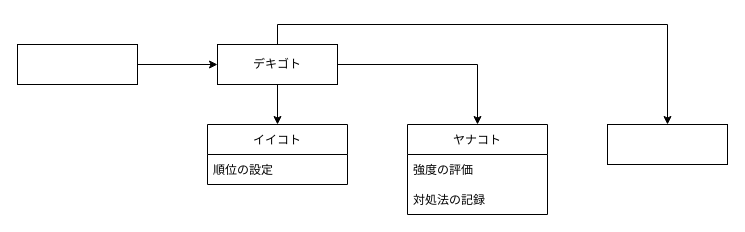
This 745x232 diagram has some shape labels left out. The shapes that lost their labels are listed below. From the top down, each one's centre as x and y in pixels, then its label:
At point (77, 64): "デキゴトを投稿".
At point (667, 144): "未分類デキゴト".
